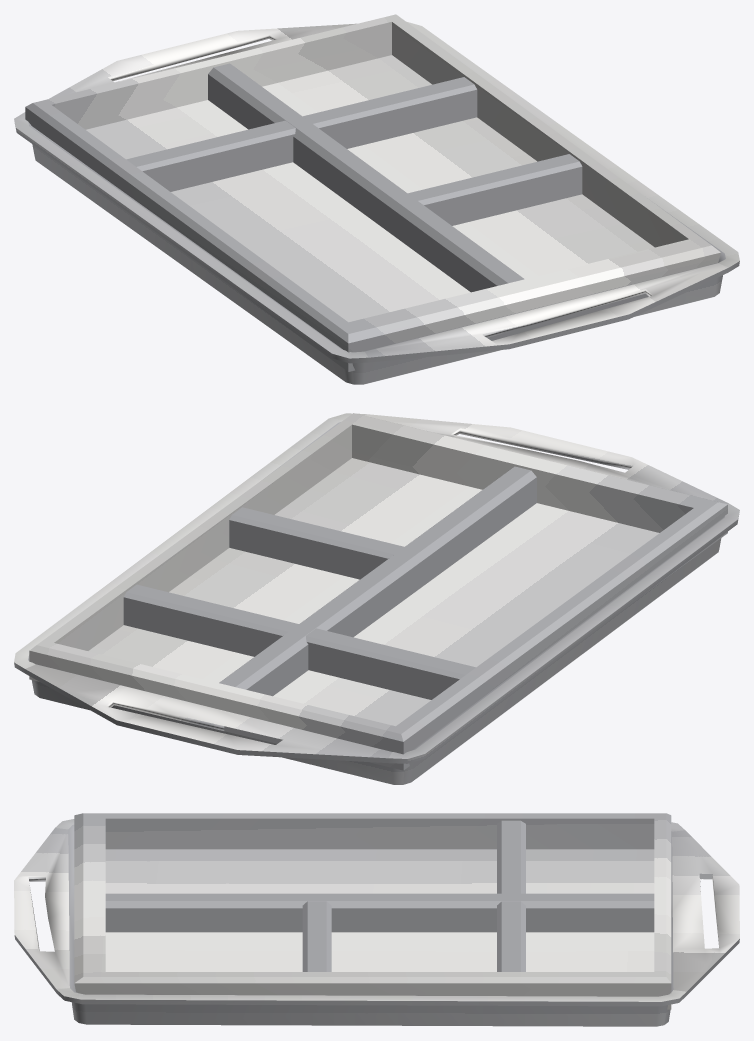
Rendered from MessTray.fbx.
3 renders of one model, top to bottom at view 1: azimuth 30°, elevation 25°; view 2: azimuth 150°, elevation 25°; view 3: azimuth 270°, elevation 25°, orthographic. The views are drawn at different scales.
Parts seen in each view (by area): view 1: MessTray; view 2: MessTray; view 3: MessTray.
Part boxes in pixels (x1,y1,x2,y2): MessTray: (14, 14, 739, 384); MessTray: (14, 413, 739, 784); MessTray: (14, 813, 739, 1026).
Size of the model in its own units: 58.47 by 7.1 by 97.26.
